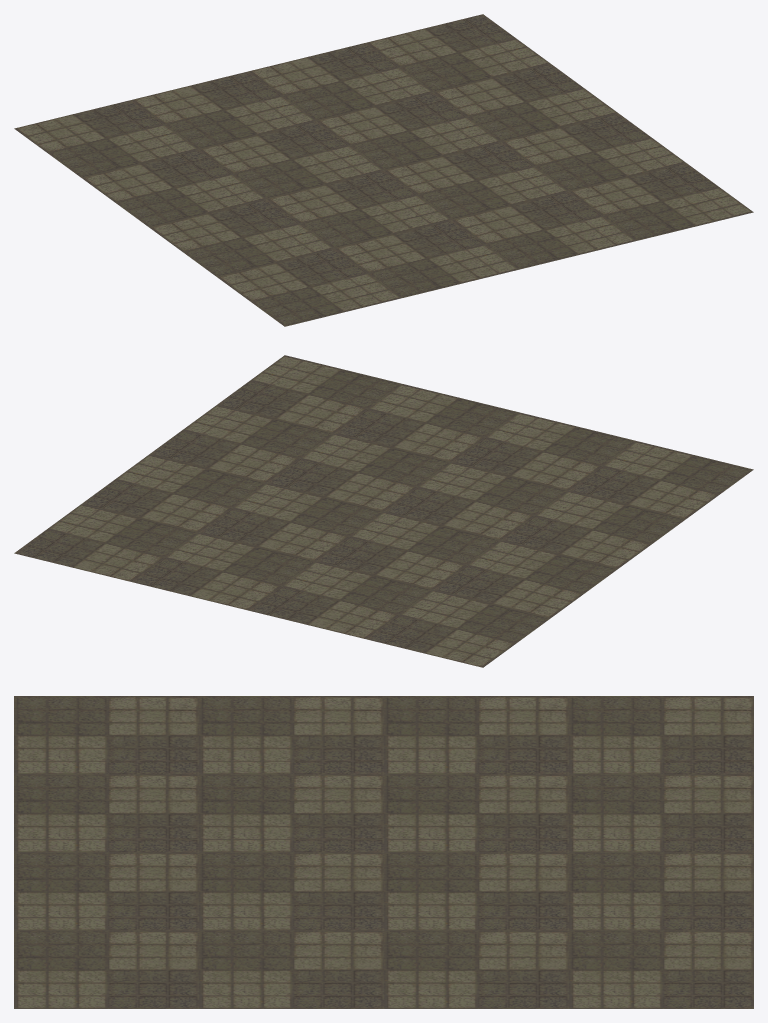
Rendered from floor4x4_2.obj.
The picture shows the model from 3 angles, top to bottom: view 1: azimuth 30°, elevation 25°; view 2: azimuth 150°, elevation 25°; view 3: azimuth 270°, elevation 25°; orthographic projection. The views are drawn at different scales.
Parts seen in each view (by area): view 1: floor4x4_2; view 2: floor4x4_2; view 3: floor4x4_2.
Part boxes in pixels (x1,y1,x2,y2): floor4x4_2: (14, 14, 753, 326); floor4x4_2: (14, 355, 753, 667); floor4x4_2: (14, 696, 753, 1008).
Bounding box in the file's own units: 8 × 0 × 8.
